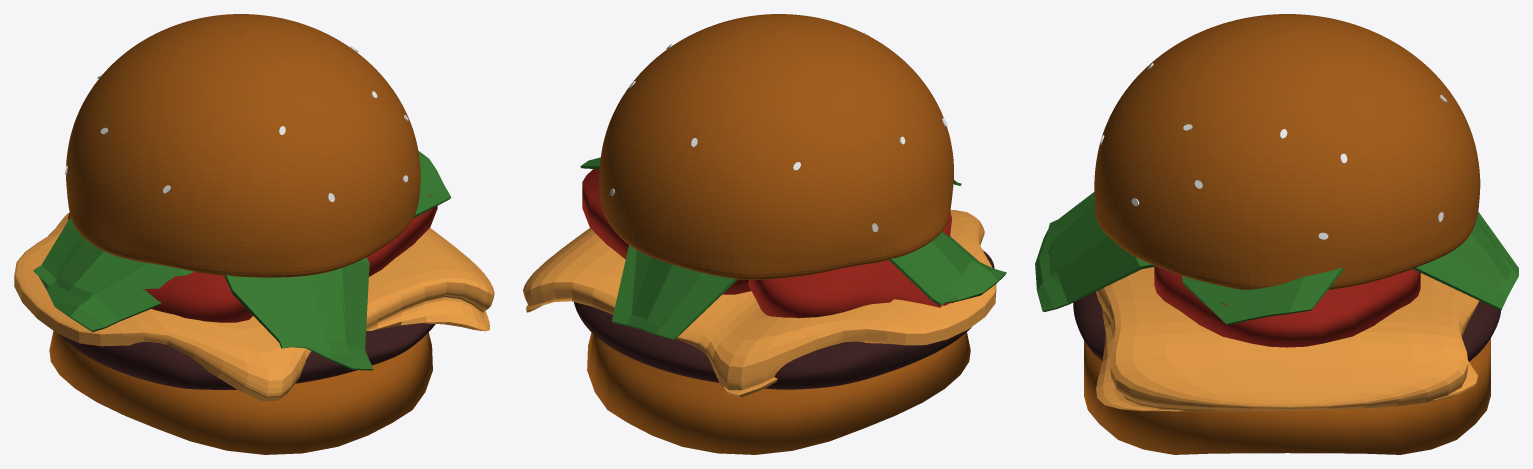
The model's file is KrabyPatty.fbx.
3 views of the same model, side by side, from view 1: azimuth 30°, elevation 25°; view 2: azimuth 150°, elevation 25°; view 3: azimuth 270°, elevation 25° (orthographic). The views are drawn at different scales.
Parts seen in each view (by area): view 1: TopBun, Cheese, BottomBun, Lettuce2, Lettuce1, Meat, Tomato2, Tomato; view 2: TopBun, BottomBun, Cheese, Meat, Tomato2, Lettuce2, Lettuce1, Tomato; view 3: TopBun, Cheese, BottomBun, Lettuce2, Tomato, Lettuce1, Meat.
Part boxes in pixels (x1,y1,x2,y2): TopBun: [66, 14, 420, 277]; Cheese: [14, 213, 494, 401]; BottomBun: [49, 331, 432, 454]; Lettuce2: [224, 257, 373, 370]; Lettuce1: [33, 151, 451, 332]; Meat: [58, 323, 435, 389]; Tomato2: [68, 212, 252, 322]; Tomato: [366, 192, 437, 276]; TopBun: [599, 14, 953, 279]; BottomBun: [587, 332, 970, 454]; Cheese: [523, 210, 996, 397]; Meat: [574, 250, 994, 389]; Tomato2: [748, 212, 954, 318]; Lettuce2: [612, 179, 961, 340]; Lettuce1: [580, 157, 1006, 305]; Tomato: [582, 169, 751, 294]; TopBun: [1094, 14, 1480, 290]; Cheese: [1096, 267, 1478, 411]; BottomBun: [1084, 338, 1490, 454]; Lettuce2: [1035, 192, 1518, 311]; Tomato: [1154, 266, 1420, 347]; Lettuce1: [1182, 267, 1343, 325]; Meat: [1073, 291, 1500, 361].
Bounding box in the file's own units: 603 × 496 × 598.
